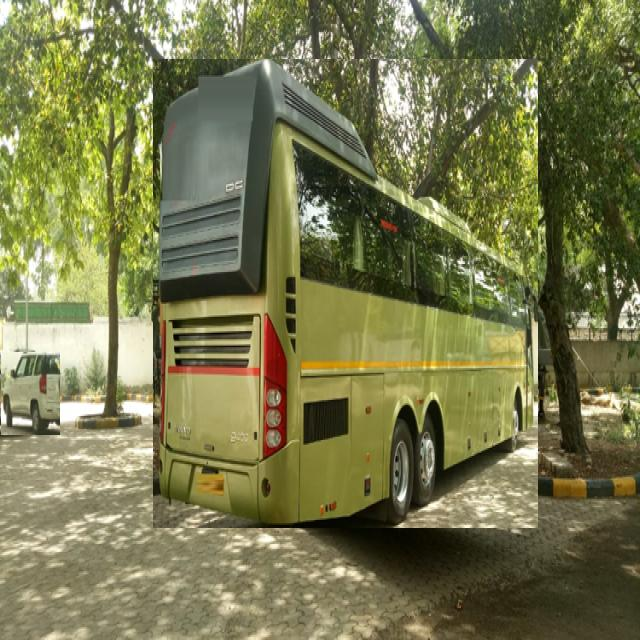bus: (153, 59, 538, 528)
car: (0, 352, 60, 435)
